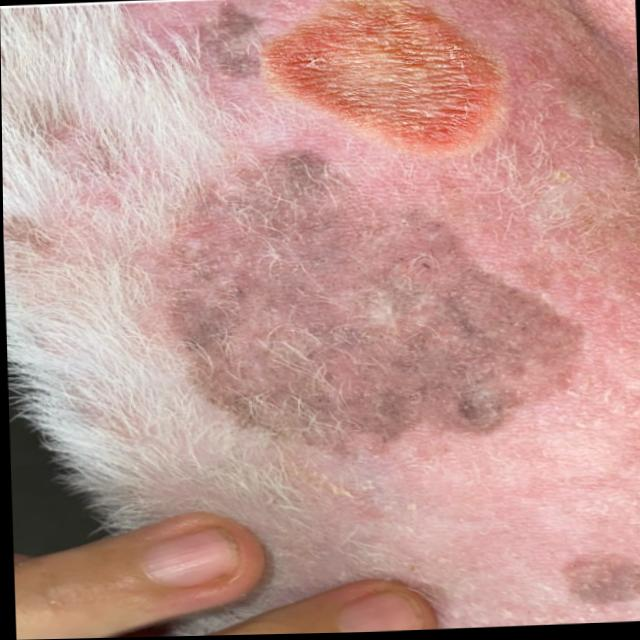ringworm: (249, 0, 520, 174)
